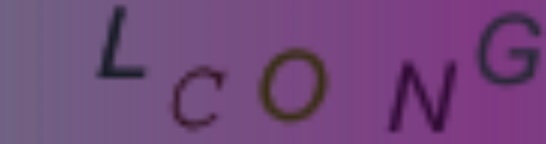C: (169, 62, 233, 134)
G: (473, 10, 546, 86)
L: (94, 3, 153, 81)
N: (380, 54, 461, 137)
O: (252, 45, 331, 128)
